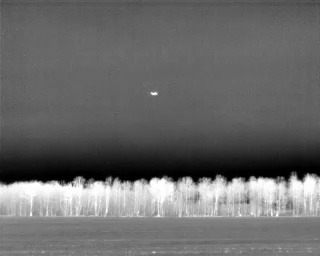DRONE: (148, 88, 161, 99)
